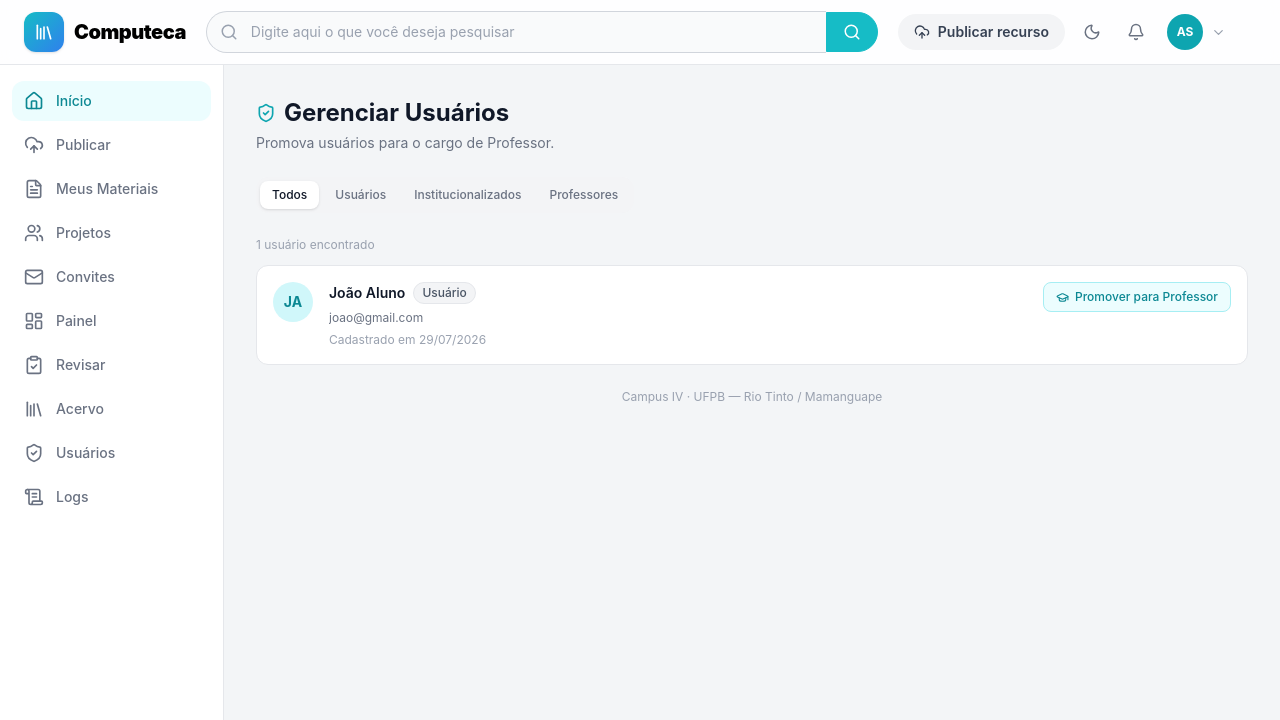
it: AdminUsersPage › promove um usuário a professor com confirmação
Step 1. Click the button "Promover para Professor" → click(1137, 297), box [1043,282,1231,312]
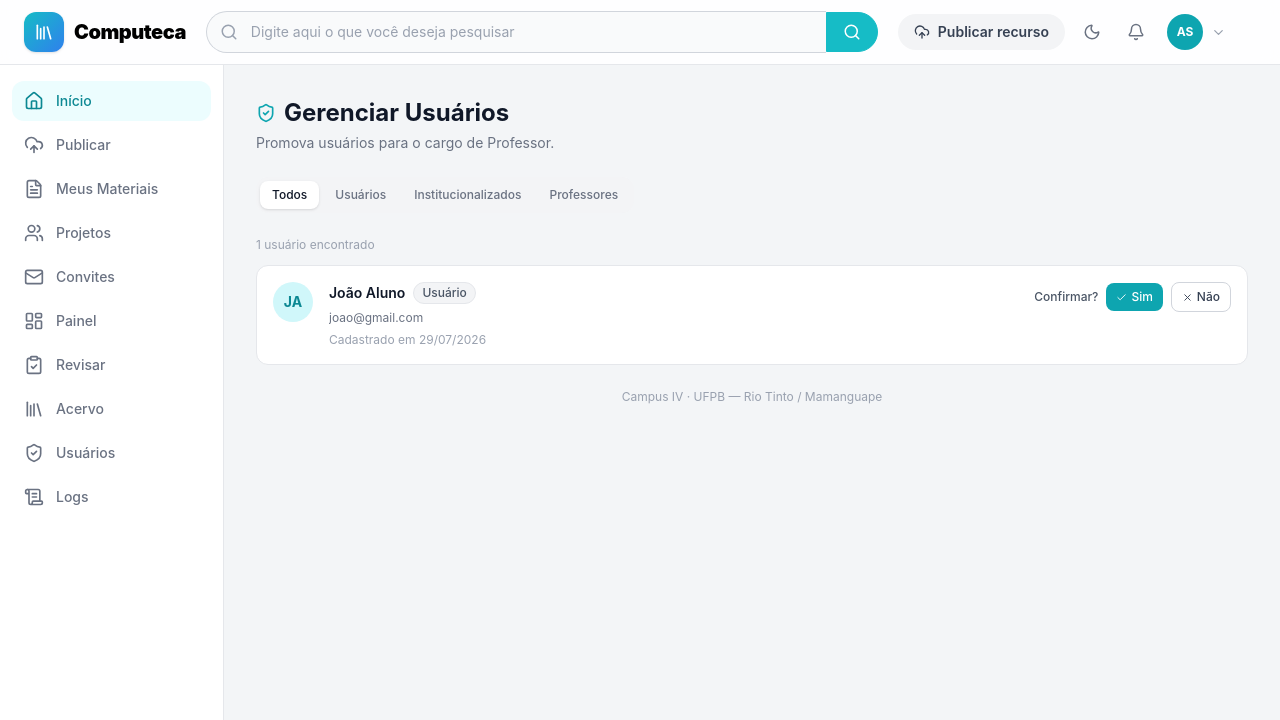
Step 2. Click the button "Sim" → click(1135, 297), box [1106,283,1163,311]
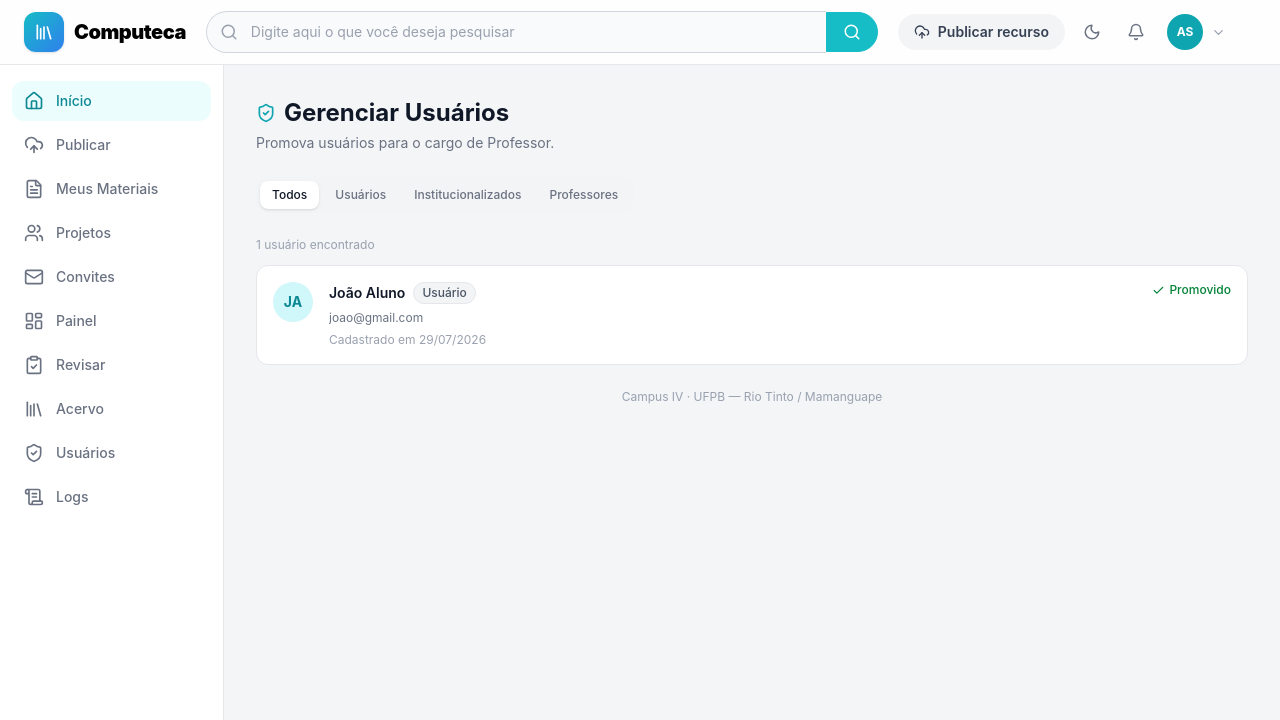
Expected: the text "Promovido" is shown, [1152,282,1231,298]
